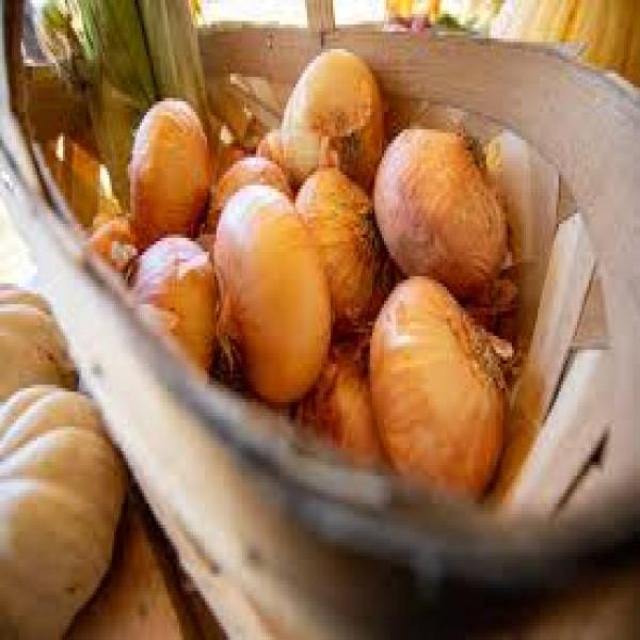Onion: (363, 282, 517, 470), (218, 198, 340, 405), (381, 126, 517, 269), (295, 51, 388, 178)
